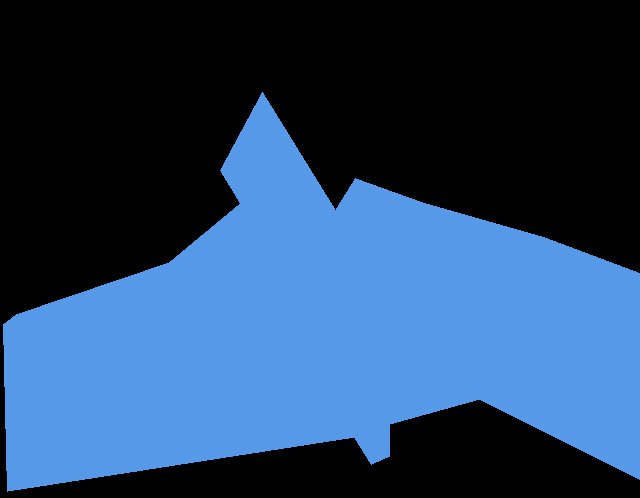Airplane: (3, 92, 640, 491)
